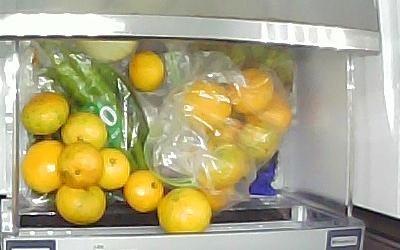tangerine: (158, 186, 212, 233), (54, 184, 107, 227), (23, 140, 65, 194), (21, 90, 69, 137), (58, 140, 105, 187), (123, 169, 164, 214), (60, 113, 109, 148), (128, 51, 167, 93), (98, 149, 129, 190)
tangerine_vinyl: (184, 83, 229, 126), (230, 69, 274, 112), (244, 93, 292, 131), (205, 146, 248, 185), (239, 123, 281, 160), (196, 171, 234, 210), (203, 120, 242, 146)
